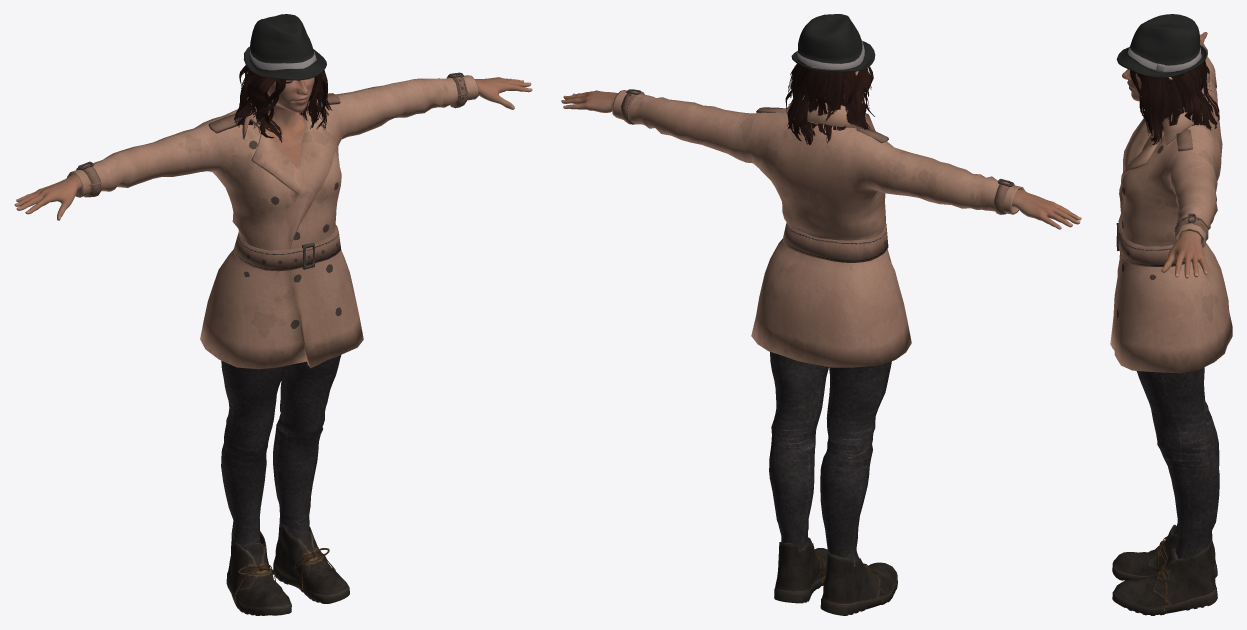
The model's file is DaniCoatHat-OBJ.obj.
3 views of the same model, side by side, from view 1: azimuth 30°, elevation 25°; view 2: azimuth 150°, elevation 25°; view 3: azimuth 270°, elevation 25° (orthographic).
Parts seen in each view (by area): view 1: Tops, Bottoms, Shoes, Body, Hats, Hair; view 2: Tops, Bottoms, Shoes, Hair, Hats, Body; view 3: Tops, Bottoms, Shoes, Hats, Hair, Body.
Boxes of the visible parts, x1,y1,x2,y2 form: Tops: [67, 72, 478, 369]; Bottoms: [221, 355, 341, 549]; Shoes: [226, 518, 349, 615]; Body: [14, 77, 532, 220]; Hats: [243, 14, 326, 80]; Hair: [234, 65, 332, 142]; Tops: [612, 89, 1024, 367]; Bottoms: [769, 352, 891, 567]; Shoes: [774, 537, 897, 615]; Hair: [785, 63, 874, 145]; Hats: [791, 14, 875, 72]; Body: [561, 71, 1081, 229]; Tops: [1110, 40, 1232, 373]; Bottoms: [1136, 367, 1219, 566]; Shoes: [1112, 524, 1217, 615]; Hats: [1116, 14, 1207, 77]; Hair: [1130, 60, 1219, 145]; Body: [1122, 32, 1207, 278].
Bounding box in the file's own units: 158 × 168 × 32.62.
Materials: 6 (6 with a texture image).
